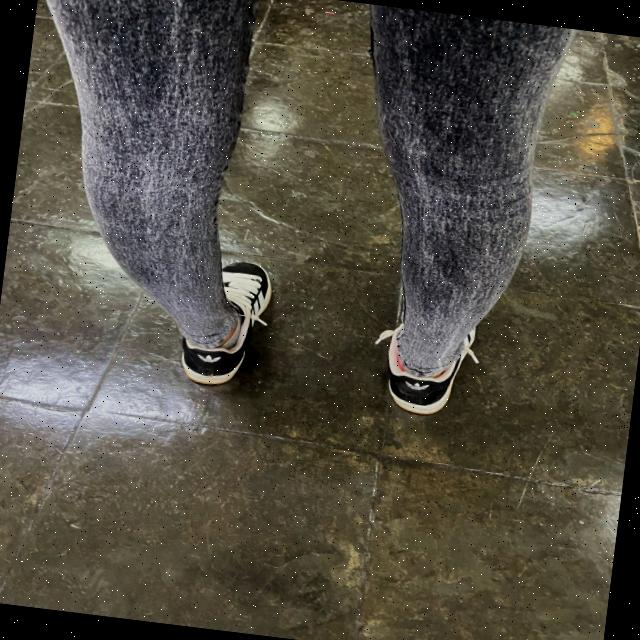SEM BOTA: (376, 282, 486, 414), (173, 253, 279, 387)
